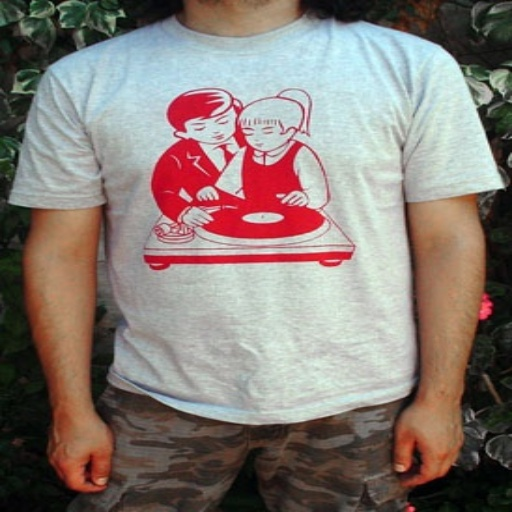hand: (394, 369, 478, 494), (42, 412, 115, 497), (179, 206, 213, 229), (272, 190, 308, 208), (192, 184, 220, 202)
